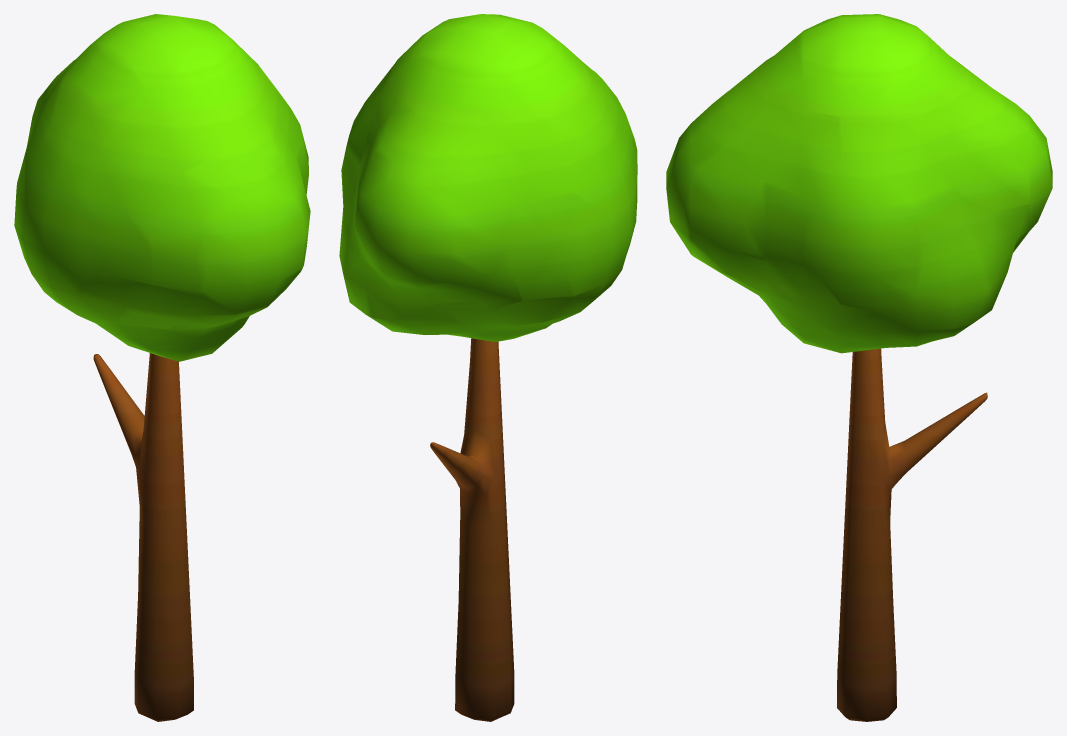
Rendered from tree-2.fbx.
3 renders of one model, left to right at view 1: azimuth 30°, elevation 25°; view 2: azimuth 150°, elevation 25°; view 3: azimuth 270°, elevation 25°, orthographic.
Parts seen in each view (by area): view 1: Mball.001, tree-2; view 2: Mball.001, tree-2; view 3: Mball.001, tree-2.
Part boxes in pixels (x1,y1,x2,y2): Mball.001: [14, 14, 310, 361]; tree-2: [93, 353, 193, 721]; Mball.001: [339, 14, 637, 341]; tree-2: [430, 338, 514, 721]; Mball.001: [666, 14, 1052, 353]; tree-2: [837, 348, 987, 721].
Bounding box in the file's own units: 688 × 1682 × 856.
